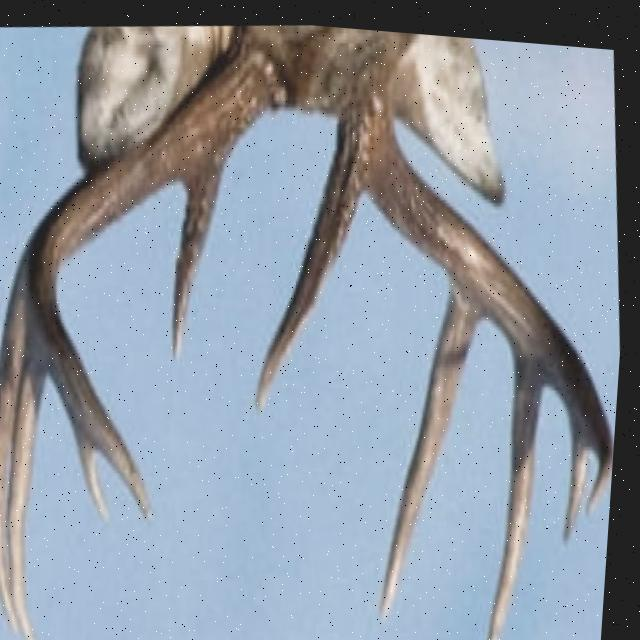E1: (79, 433, 118, 525)
L-G1: (259, 126, 368, 418)
L-G2: (384, 264, 491, 620)
L-G3: (490, 336, 551, 640)
L-G4: (566, 402, 596, 539)
R-F: (28, 30, 291, 519)
R-G1: (174, 143, 237, 362)
R-G2: (0, 247, 31, 637)
R-G3: (14, 315, 52, 640)
